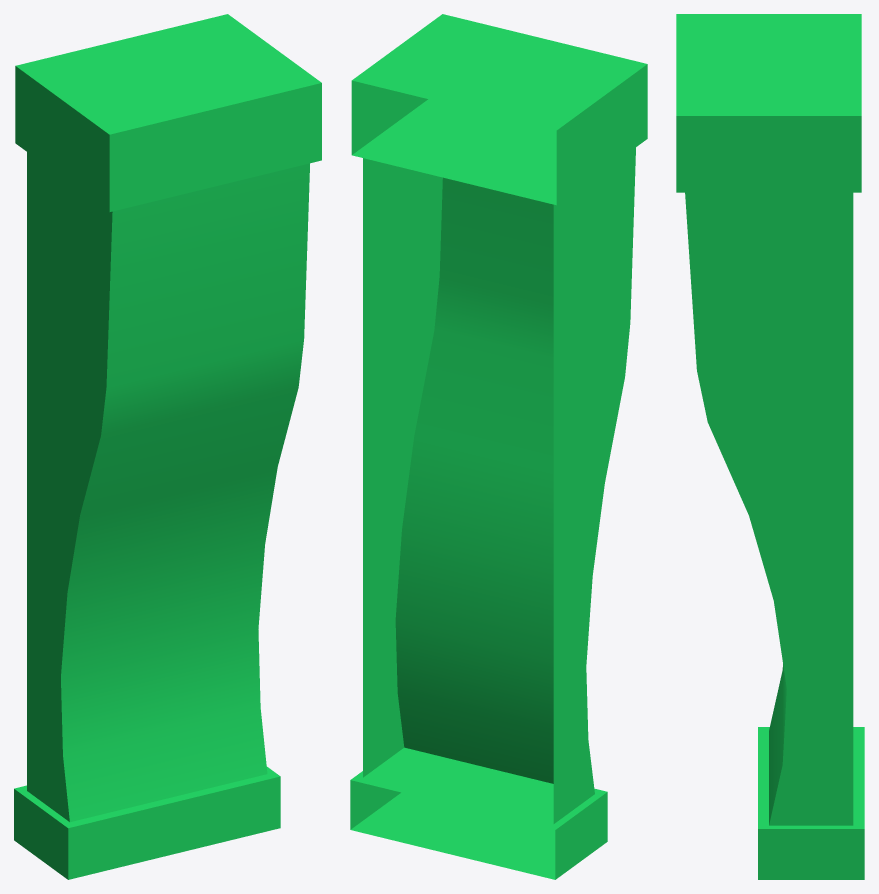
File: SM_wall_pillar.fbx
The picture shows the model from 3 angles, left to right: view 1: azimuth 30°, elevation 25°; view 2: azimuth 150°, elevation 25°; view 3: azimuth 270°, elevation 25°; orthographic projection. The views are drawn at different scales.
Parts seen in each view (by area): view 1: wall_pillar_low.003; view 2: wall_pillar_low.003; view 3: wall_pillar_low.003.
Part boxes in pixels (x1,y1,x2,y2): wall_pillar_low.003: (14, 14, 321, 879); wall_pillar_low.003: (350, 14, 647, 879); wall_pillar_low.003: (676, 14, 864, 879).
Bounding box in the file's own units: 86 × 300 × 67.
